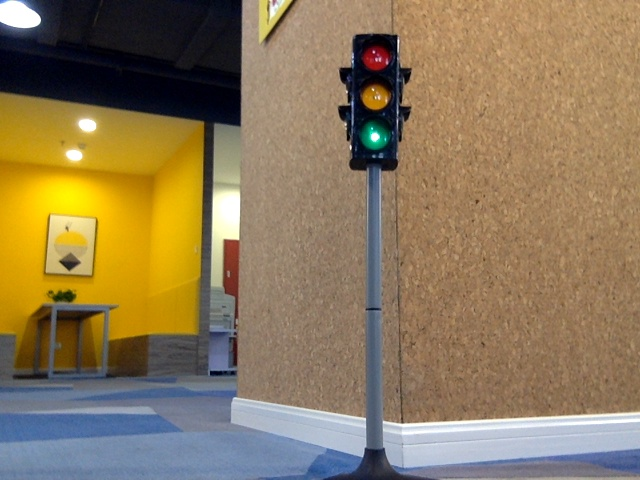green: (354, 43, 394, 154)
